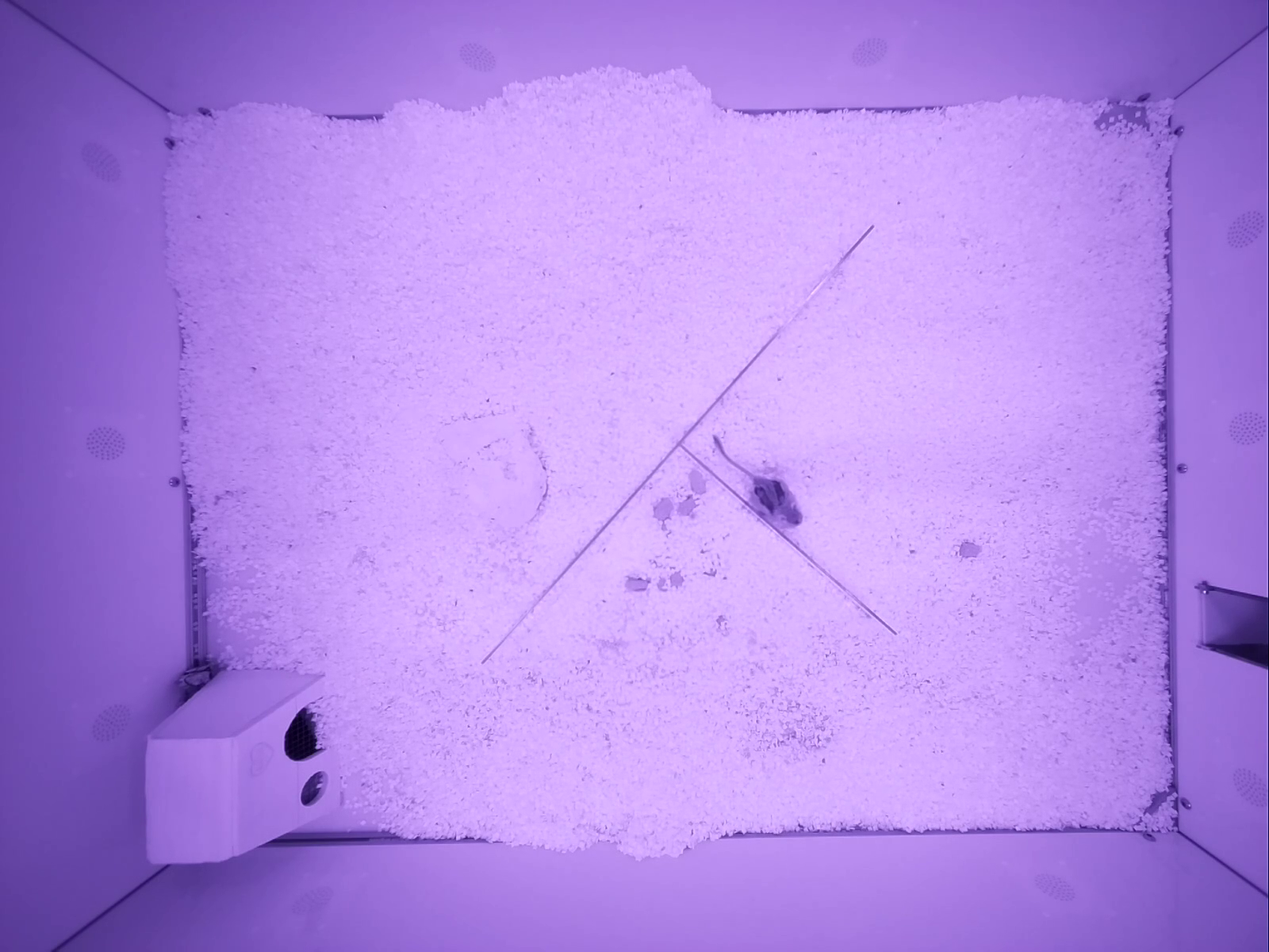adult_back: (714, 436, 801, 525)
